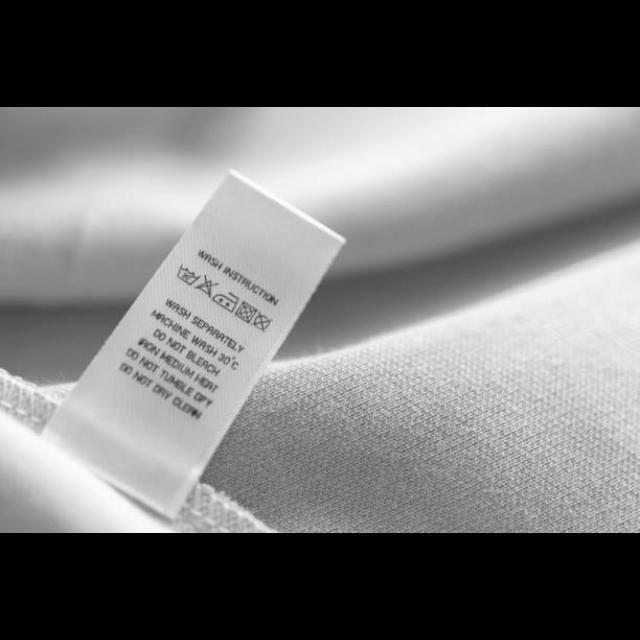30C: (176, 262, 202, 288)
DN_bleach: (193, 273, 221, 299)
DN_dry_clean: (250, 311, 274, 333)
DN_tumble_dry: (234, 300, 258, 324)
iron_medium: (212, 290, 240, 314)
